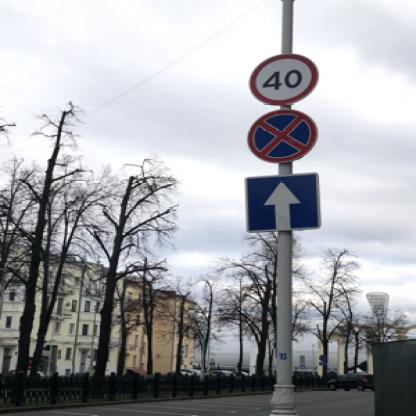speedlimit: (245, 51, 318, 105)
